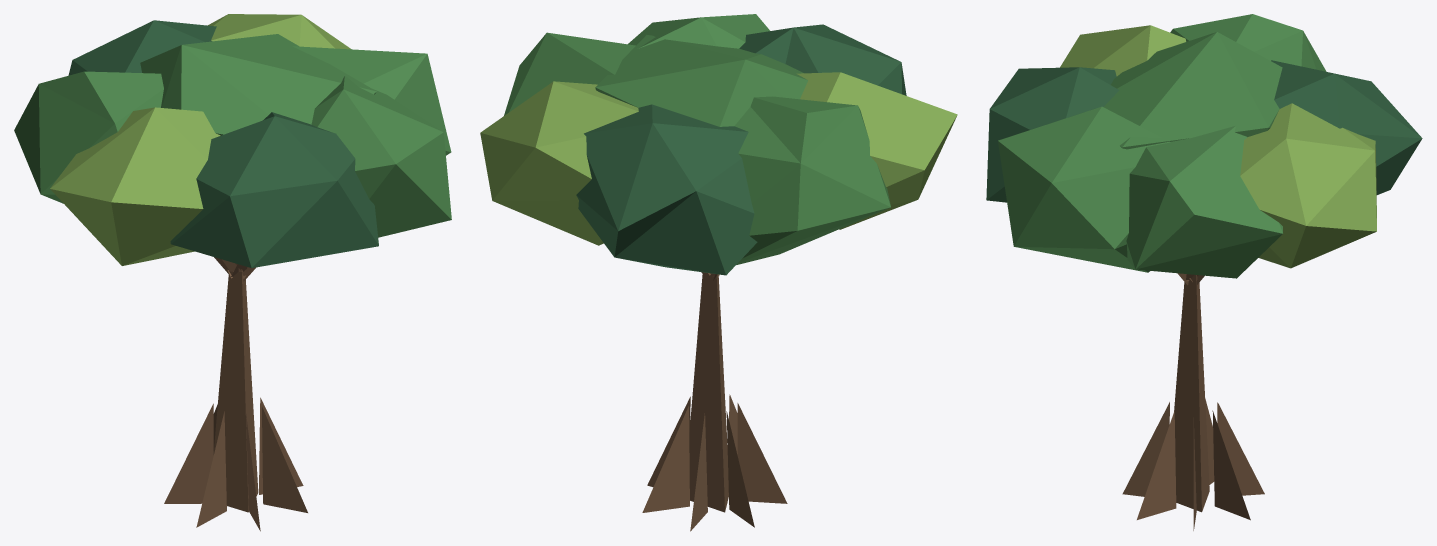
The model's file is tree_kapok_low.glb.
The picture shows the model from 3 angles, left to right: view 1: azimuth 30°, elevation 25°; view 2: azimuth 150°, elevation 25°; view 3: azimuth 270°, elevation 25°; orthographic projection. The views are drawn at different scales.
Visible parts, largest first — view 1: tree_kapok.001; view 2: tree_kapok.001; view 3: tree_kapok.001.
Boxes of the visible parts, x1,y1,x2,y2 form: tree_kapok.001: (14,14,451,531); tree_kapok.001: (480,14,957,531); tree_kapok.001: (986,14,1422,530).
Size of the model in its own units: 21.69 by 24.32 by 21.47.
